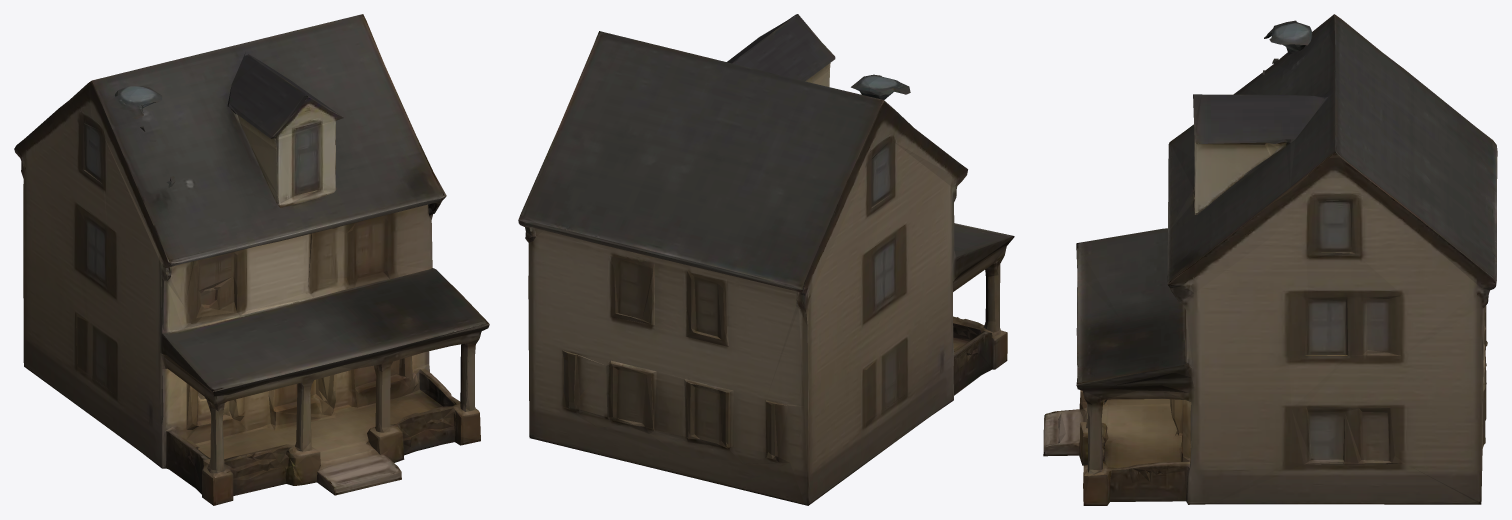
File: house_beige_black_roof.glb
The picture shows the model from 3 angles, left to right: view 1: azimuth 30°, elevation 25°; view 2: azimuth 150°, elevation 25°; view 3: azimuth 270°, elevation 25°; orthographic projection. The views are drawn at different scales.
Visible parts, largest first — view 1: geometry_0; view 2: geometry_0; view 3: geometry_0.
Boxes of the visible parts, left/top/right/bottom form: geometry_0: left=14, top=14, right=489, bottom=505; geometry_0: left=518, top=14, right=1014, bottom=505; geometry_0: left=1043, top=14, right=1497, bottom=505.
Bounding box in the file's own units: 0.3675 × 0.4276 × 0.496.
1 material, 1 textured.
